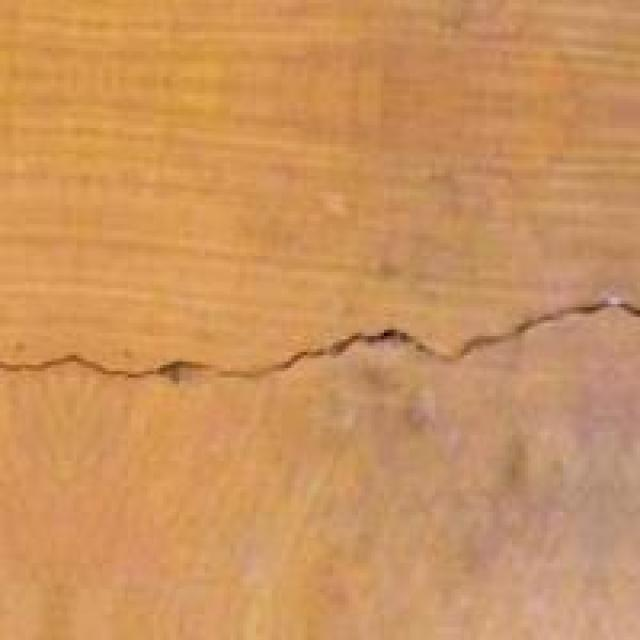crack: (8, 252, 640, 414)
